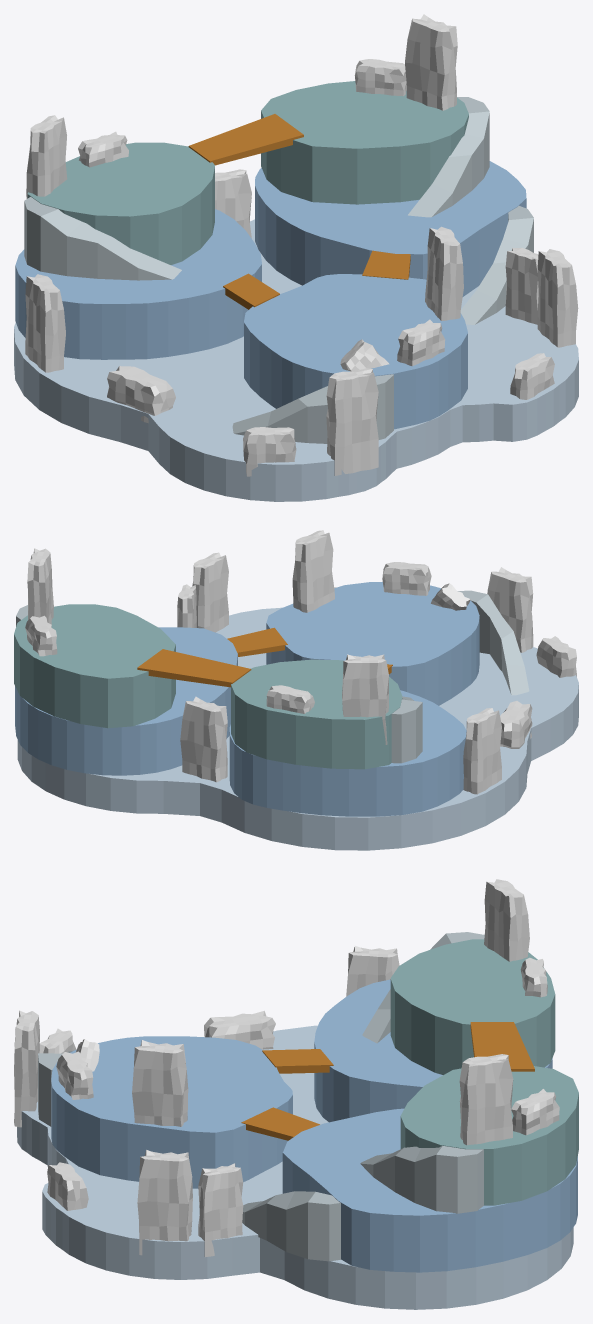
The model's file is IceFortressEmpty.gltf.
3 views of the same model, one above another, from view 1: azimuth 30°, elevation 25°; view 2: azimuth 150°, elevation 25°; view 3: azimuth 270°, elevation 25° (orthographic). The views are drawn at different scales.
Visible parts, largest first — view 1: Cylinder, Cylinder.003, Cylinder.005, Cylinder.001, Cylinder.002, Cylinder.004, Cube, Cube.017, Cube.024, Cube.001, Cube.003, Cube.010 (+16 smaller); view 2: Cylinder, Cylinder.003, Cylinder.005, Cylinder.001, Cylinder.004, Cylinder.002, Cube.018, Cube.021, Cube.007, Cube.011, Cube.003, Cube.017 (+12 smaller); view 3: Cylinder, Cylinder.002, Cylinder.003, Cylinder.004, Cylinder.005, Cylinder.001, Cube.001, Cube.002, Cube.010, Cube.024, Cube.021, Cube.009 (+14 smaller).
Part boxes in pixels (bbox=[...]): Cylinder: bbox=[14, 219, 578, 501]; Cylinder.003: bbox=[244, 274, 467, 429]; Cylinder.005: bbox=[261, 81, 468, 204]; Cylinder.001: bbox=[15, 209, 261, 359]; Cylinder.002: bbox=[255, 161, 526, 296]; Cylinder.004: bbox=[27, 142, 214, 264]; Cube: bbox=[24, 197, 181, 280]; Cube.017: bbox=[326, 368, 378, 475]; Cube.024: bbox=[405, 14, 457, 110]; Cube.001: bbox=[408, 97, 489, 217]; Cube.003: bbox=[232, 374, 393, 443]; Cube.010: bbox=[537, 249, 578, 347]; Cylinder: bbox=[17, 607, 578, 850]; Cylinder.003: bbox=[266, 582, 479, 705]; Cylinder.005: bbox=[14, 604, 175, 728]; Cylinder.001: bbox=[229, 690, 466, 816]; Cylinder.004: bbox=[231, 659, 402, 769]; Cylinder.002: bbox=[15, 627, 237, 775]; Cube.018: bbox=[180, 696, 227, 782]; Cube.021: bbox=[292, 530, 334, 612]; Cube.007: bbox=[342, 654, 388, 744]; Cube.011: bbox=[463, 708, 501, 794]; Cube.003: bbox=[457, 590, 529, 695]; Cube.017: bbox=[487, 567, 533, 652]; Cylinder: bbox=[17, 1025, 573, 1309]; Cylinder.002: bbox=[282, 1108, 577, 1272]; Cylinder.003: bbox=[51, 1036, 292, 1188]; Cylinder.004: bbox=[390, 939, 555, 1074]; Cylinder.005: bbox=[400, 1066, 578, 1205]; Cylinder.001: bbox=[314, 979, 552, 1122]; Cube.001: bbox=[360, 1146, 483, 1213]; Cube.002: bbox=[242, 1191, 340, 1261]; Cube.010: bbox=[137, 1150, 192, 1255]; Cube.024: bbox=[459, 1054, 513, 1145]; Cube.021: bbox=[132, 1040, 188, 1126]; Cube.009: bbox=[198, 1163, 243, 1257].
Bounding box in the file's own units: 40.2 × 17.49 × 38.53.
